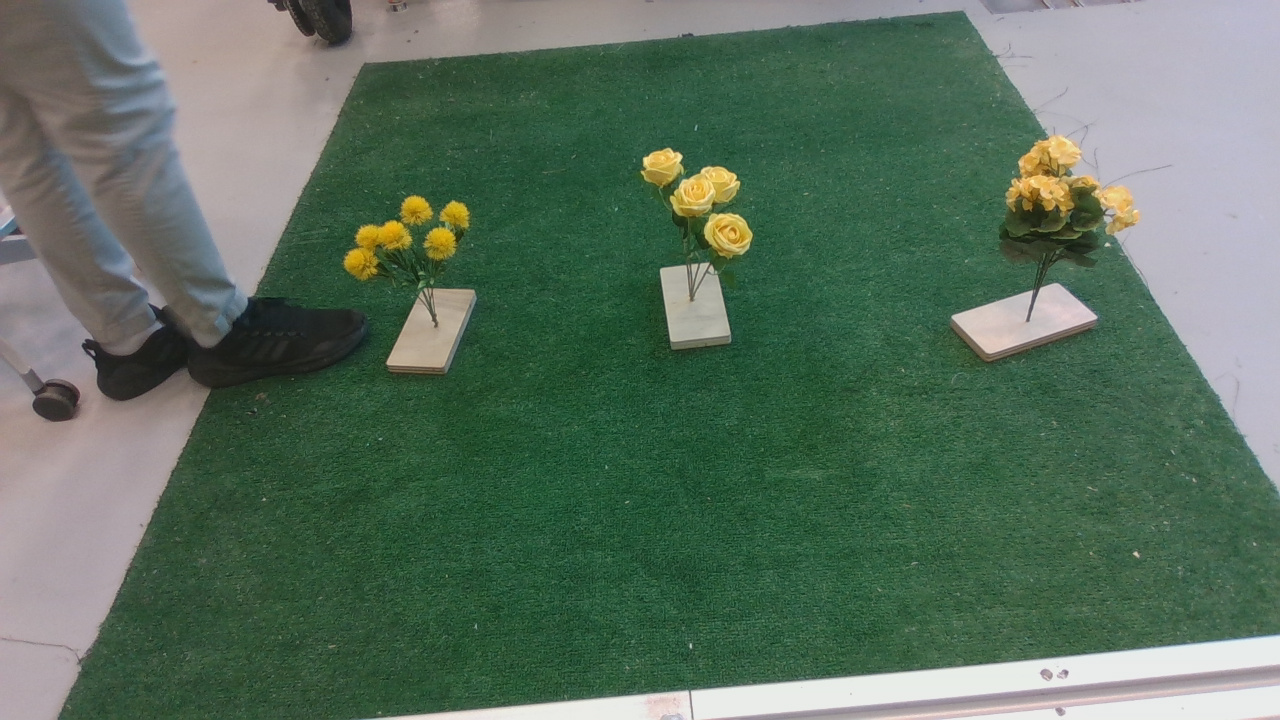dandelion: (338, 198, 488, 289)
geranium: (995, 138, 1152, 287)
rose: (646, 145, 763, 282)
